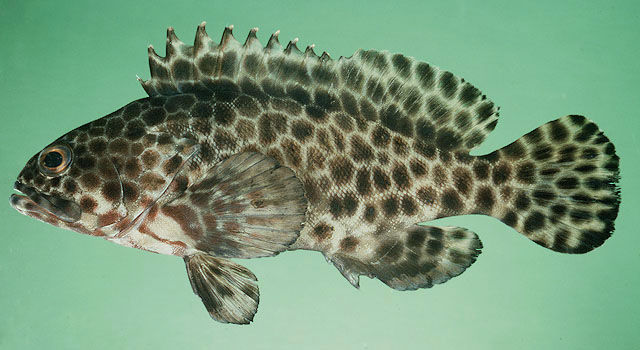fish: (9, 20, 622, 326)
